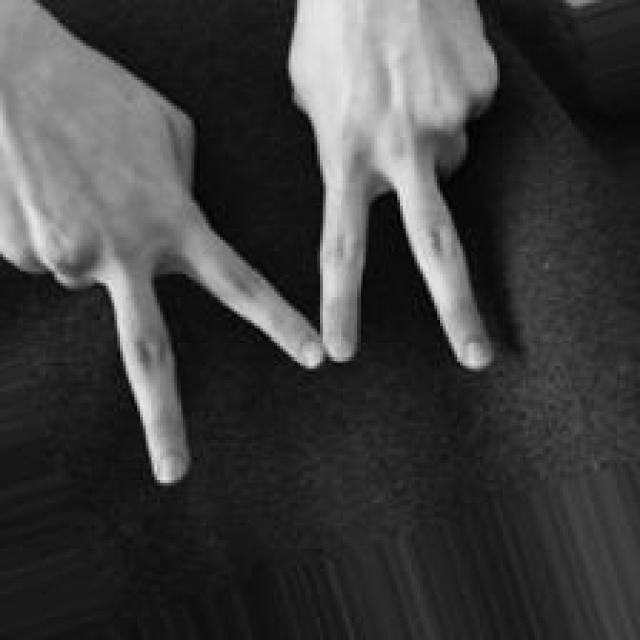M: (4, 0, 508, 490)
